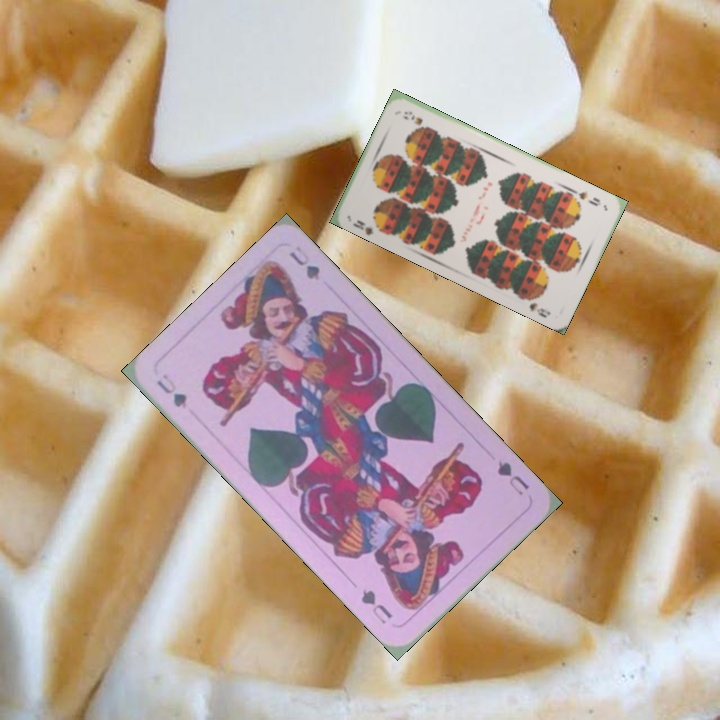GU: (493, 457, 532, 498), (152, 369, 190, 411)
S9: (570, 186, 604, 209), (349, 216, 386, 237)
